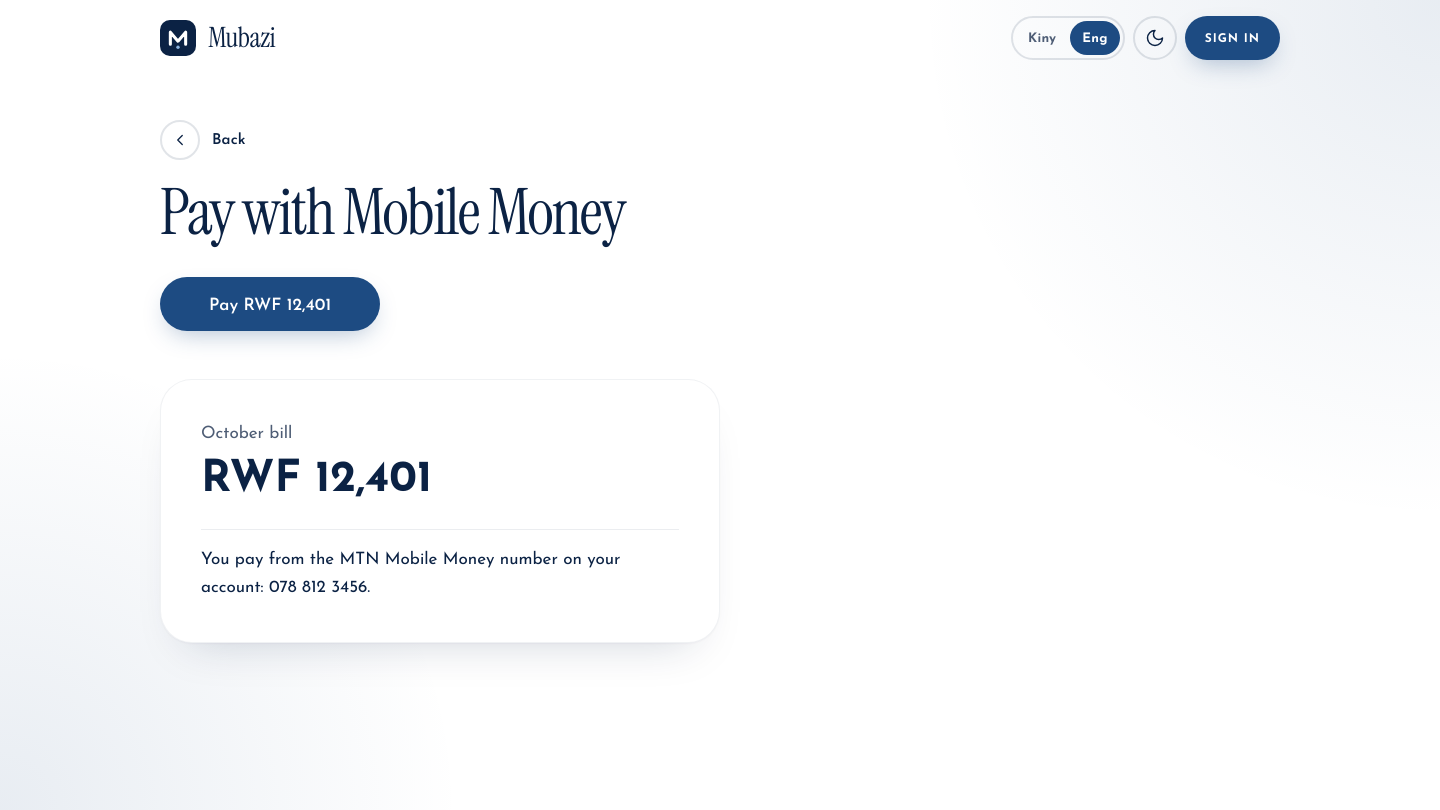
Test: Payment › when payment succeeds, should show Paid with the transaction id
This screenshot has width=1440, height=810.
Click the button "Pay RWF 12,401". click: (270, 304)
box: [160,277,380,331]
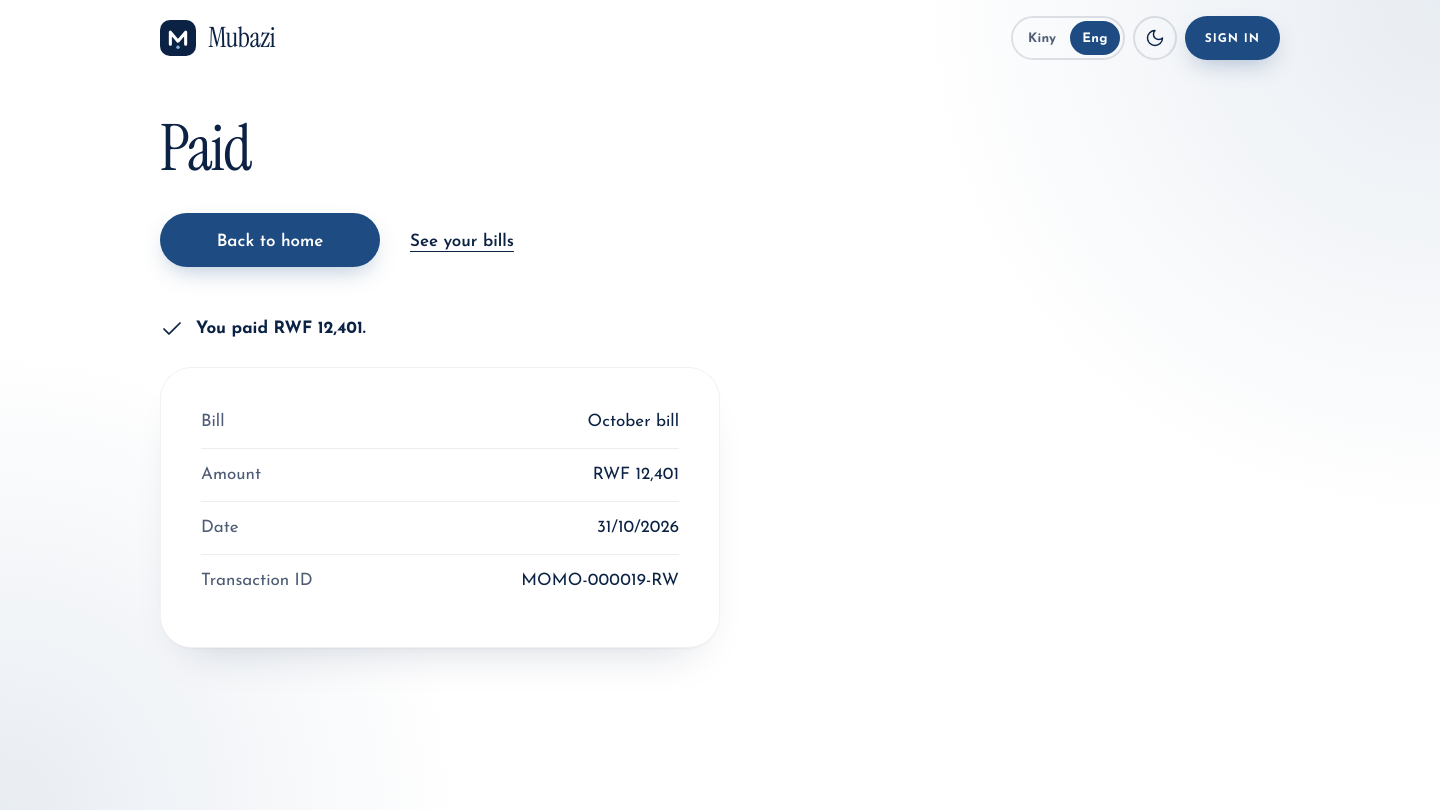
Check: the heading "Paid" is shown, box [160,116,250,181]
Check: the text "You paid RWF 12,401." is shown, box [196,320,366,337]
